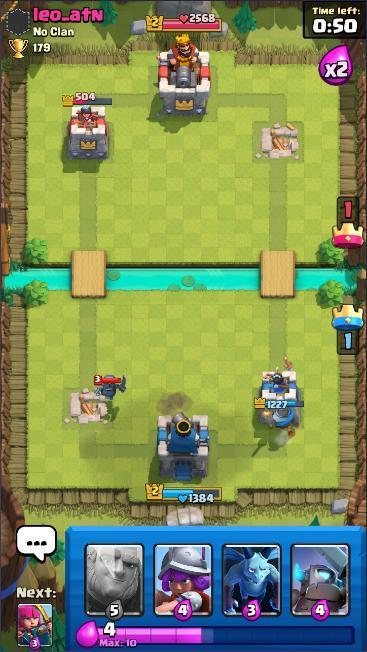ally_knight: (260, 402, 304, 440)
enemy_mini_pekka: (93, 374, 129, 404)
